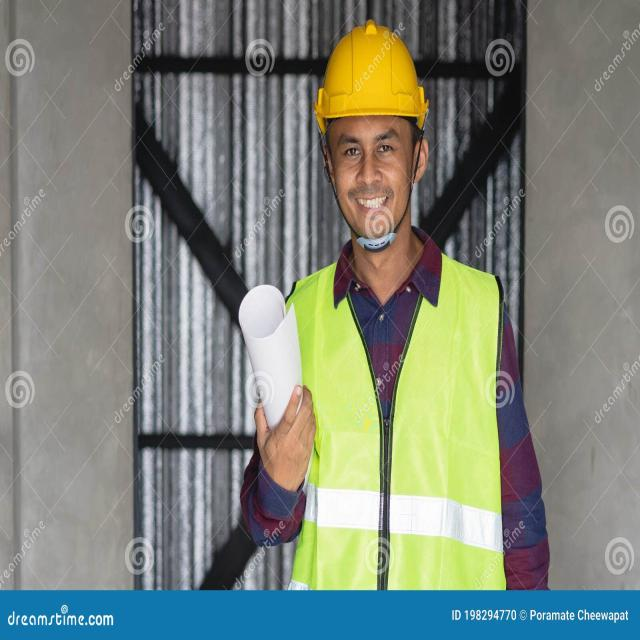helmet: (317, 13, 430, 122)
no-goggles: (315, 128, 432, 177)
vest: (290, 253, 509, 588)
